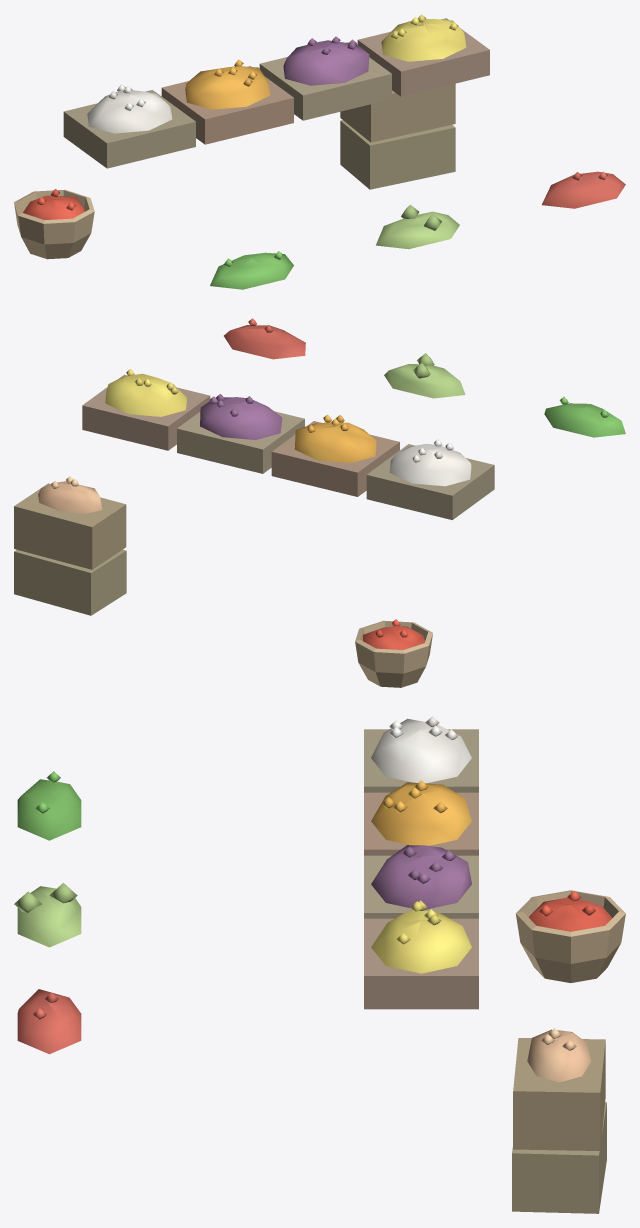
File: SM_BM_BP_StallGoods_F.glb
3 renders of one model, top to bottom at view 1: azimuth 30°, elevation 25°; view 2: azimuth 150°, elevation 25°; view 3: azimuth 270°, elevation 25°, orthographic. The views are drawn at different scales.
Parts seen in each view (by area): view 1: SM_BM_BP_StallGoods_F; view 2: SM_BM_BP_StallGoods_F; view 3: SM_BM_BP_StallGoods_F.
Boxes of the visible parts, box(x1,y1,x2,y2) form: SM_BM_BP_StallGoods_F: box(14, 14, 625, 289); SM_BM_BP_StallGoods_F: box(14, 318, 625, 687); SM_BM_BP_StallGoods_F: box(14, 716, 625, 1213).
Size of the model in its own units: 2.82 by 1.24 by 2.66.
